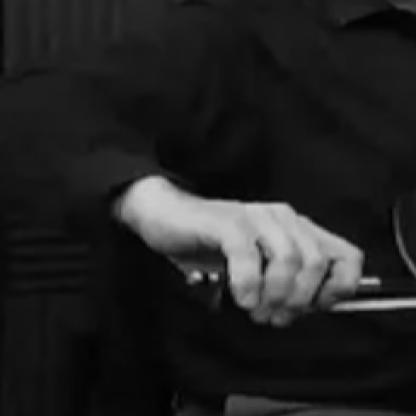good: (182, 172, 367, 334)
